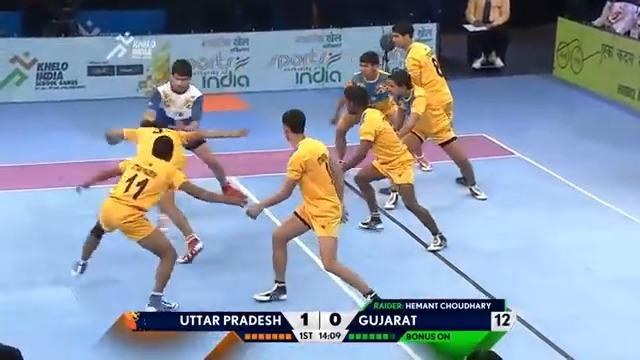Player: (68, 116, 249, 312), (243, 106, 382, 308), (379, 20, 488, 203), (334, 82, 448, 253)
Raider: (140, 58, 206, 263)
referee: (462, 0, 511, 70)
